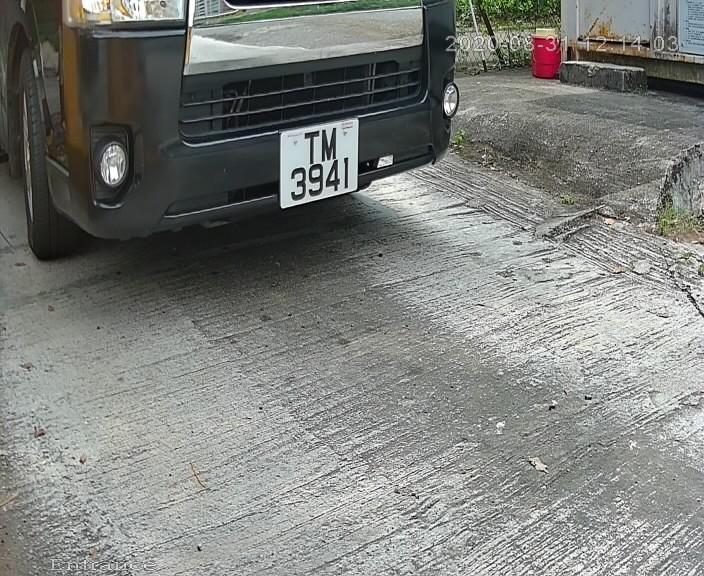License Plate: (268, 114, 375, 211)
